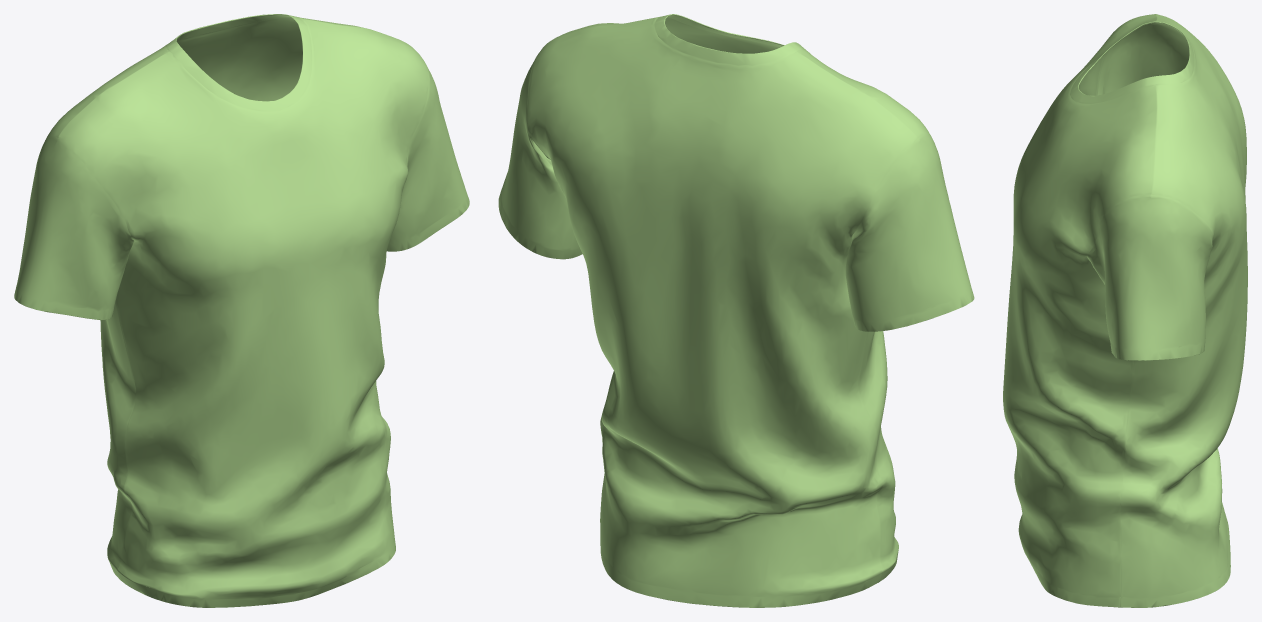
The model's file is green.glb.
3 renders of one model, left to right at view 1: azimuth 30°, elevation 25°; view 2: azimuth 150°, elevation 25°; view 3: azimuth 270°, elevation 25°, orthographic. The views are drawn at different scales.
Visible parts, largest first — view 1: T_Shirt_male; view 2: T_Shirt_male; view 3: T_Shirt_male.
Part boxes in pixels (box(x1,y1,x2,y2)): T_Shirt_male: box(14, 14, 469, 607); T_Shirt_male: box(498, 14, 974, 607); T_Shirt_male: box(1003, 14, 1247, 607).
Size of the model in its own units: 3.3 by 3.68 by 1.61.
